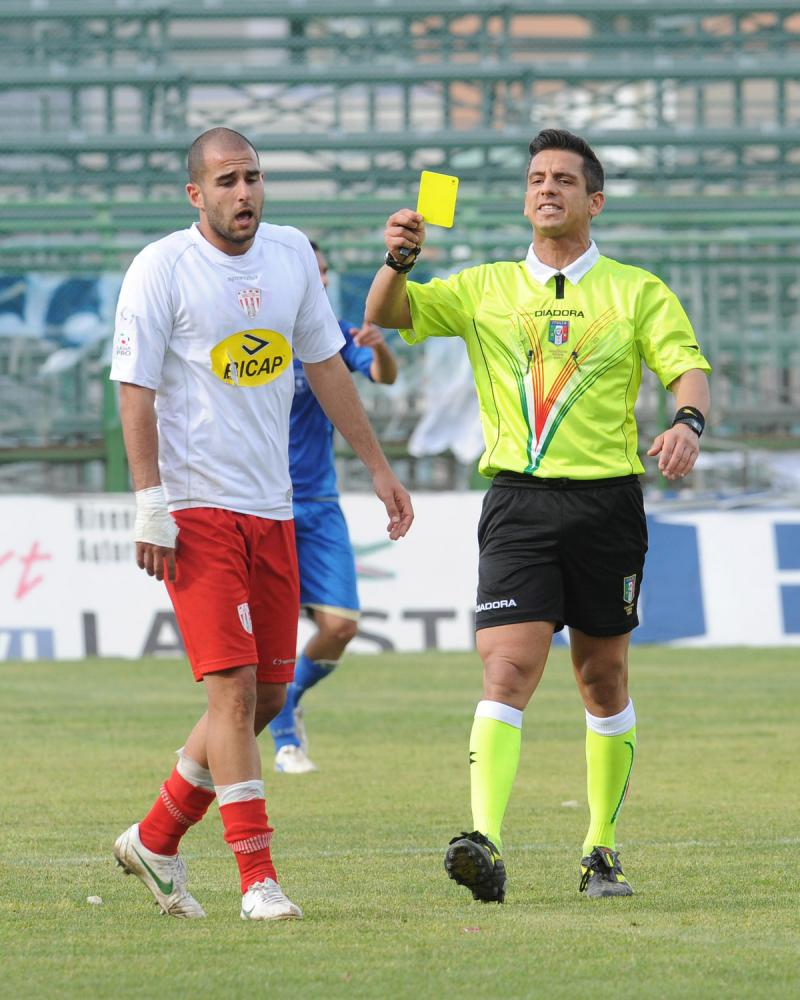yellow_card: (370, 151, 464, 279)
